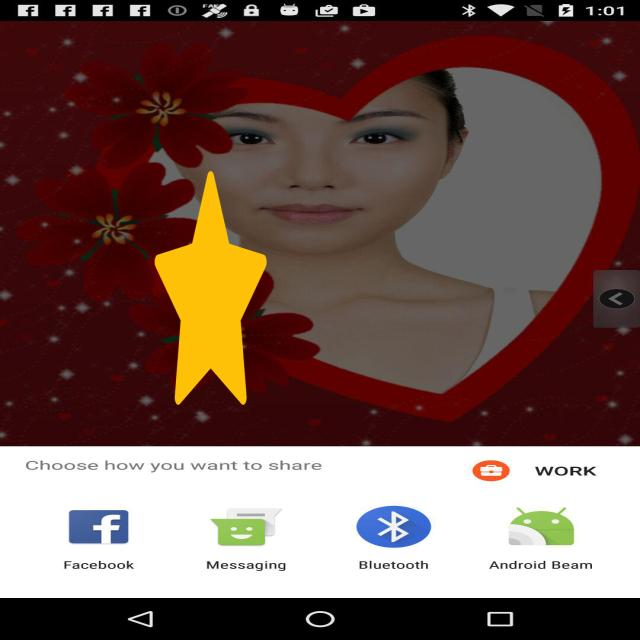forced continuity: (154, 171, 266, 405)
